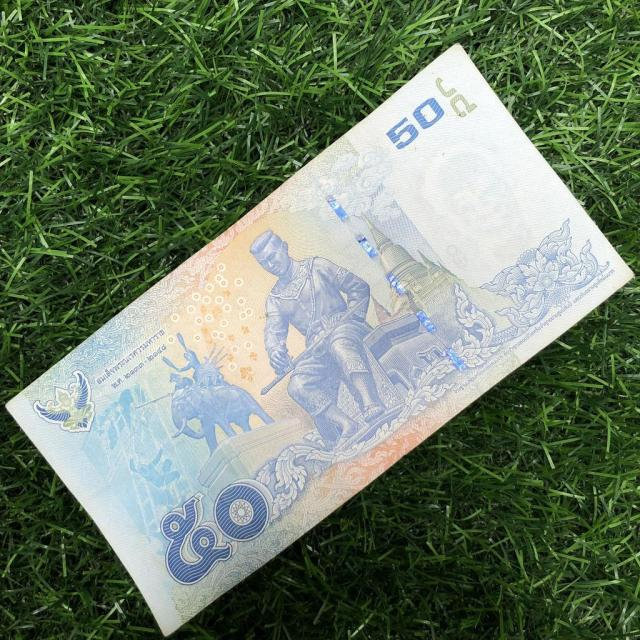THAI50: (6, 45, 634, 638)
